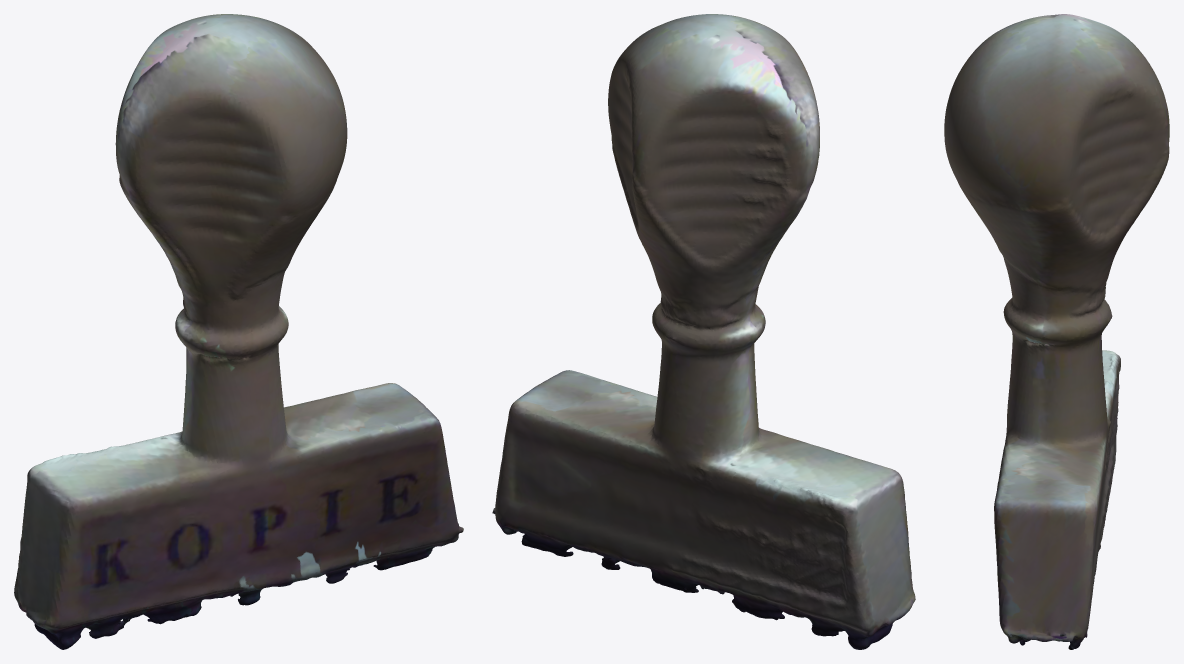
File: copy-stamp_otter_comp.glb
3 views of the same model, side by side, from view 1: azimuth 30°, elevation 25°; view 2: azimuth 150°, elevation 25°; view 3: azimuth 270°, elevation 25° (orthographic). The views are drawn at different scales.
Parts seen in each view (by area): view 1: merged; view 2: merged; view 3: merged.
Boxes of the visible parts, x1,y1,x2,y2 form: merged: [14, 14, 463, 649]; merged: [492, 14, 915, 649]; merged: [944, 14, 1169, 649].
Size of the model in its own units: 53.03 by 71.92 by 26.49.
1 material, 1 textured.
